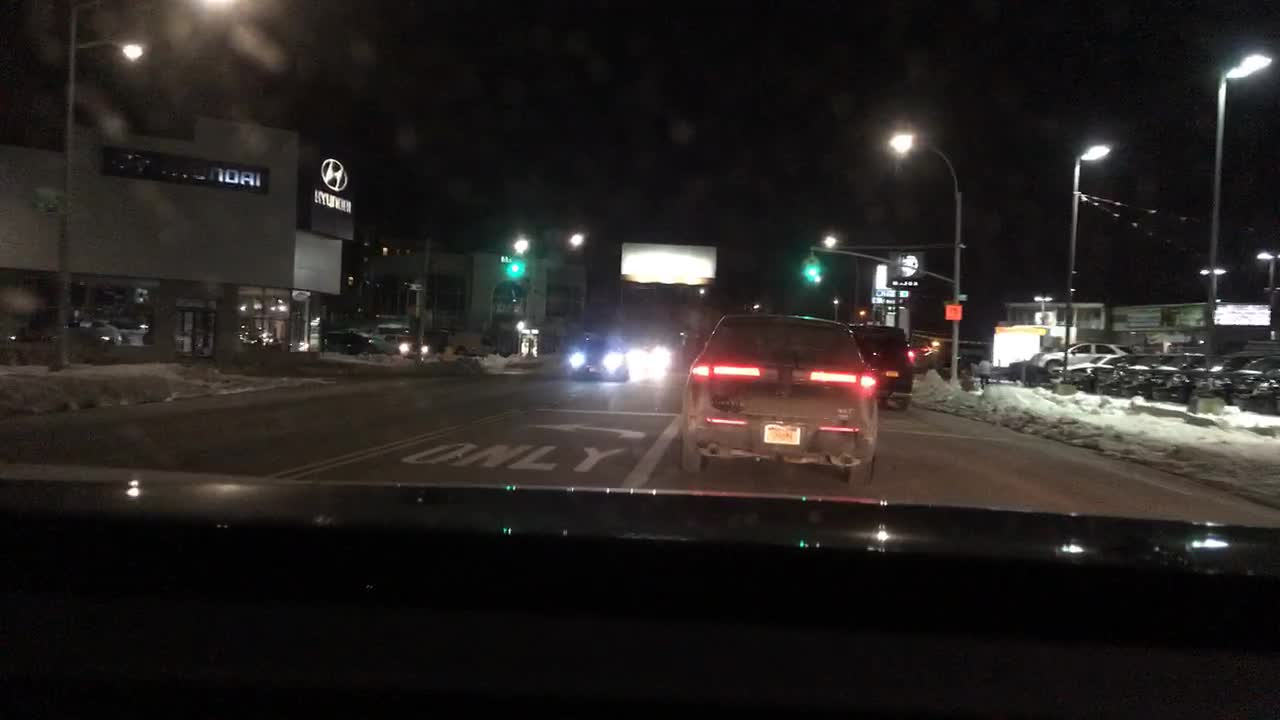car: (682, 311, 880, 487), (845, 323, 912, 411), (1142, 354, 1224, 401), (1027, 339, 1130, 376), (1192, 353, 1264, 400), (1100, 353, 1169, 399), (1057, 348, 1127, 386), (567, 333, 623, 380), (326, 330, 397, 364), (622, 340, 675, 381), (1236, 374, 1277, 414), (910, 334, 949, 375), (371, 321, 418, 346), (396, 339, 436, 360)
traffic light: (803, 255, 821, 286), (506, 257, 521, 286), (933, 340, 942, 355)
traffic sign: (945, 305, 964, 321)
truck: (446, 331, 505, 356)
